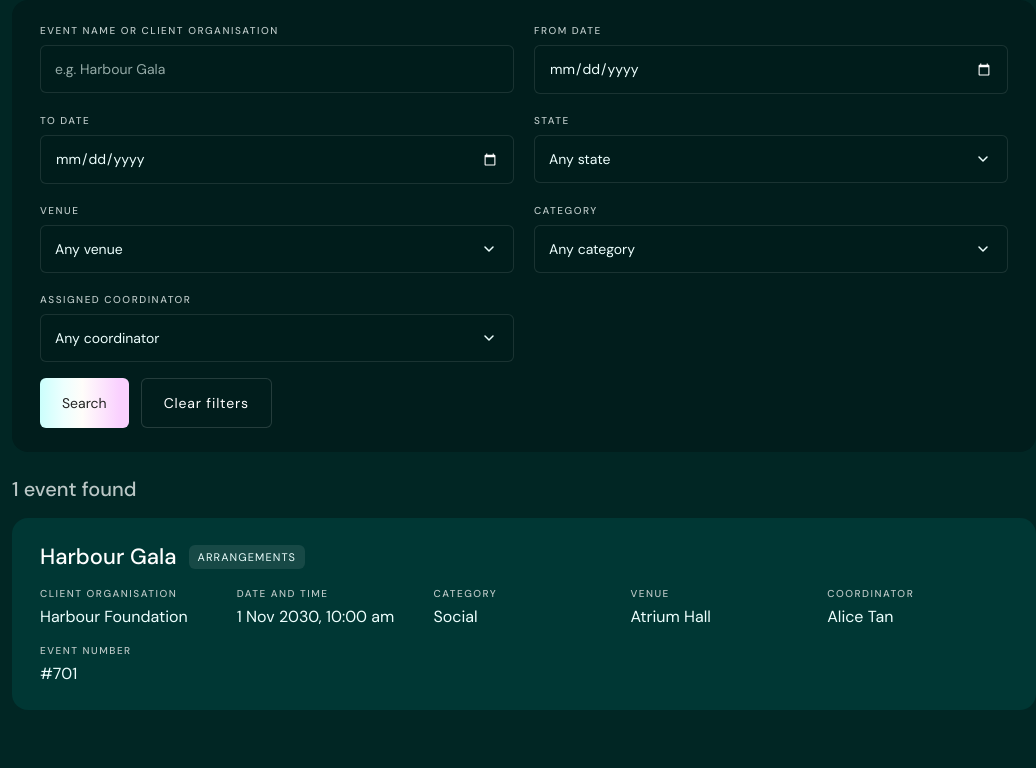
Scenario: EventSearch (SG2-70) › [FAILURE] [SG2-70:AC2] a filter the server refuses shows its message
The width and height of the screenshot is (1036, 768).
Expected: the heading "1 event found" is shown, top-left (12, 476), bottom-right (136, 502)
Step 1. Type "2030-12-01" into the date field labelled "From date" → coordinates (771, 70), box top-left (534, 45), bottom-right (1008, 94)
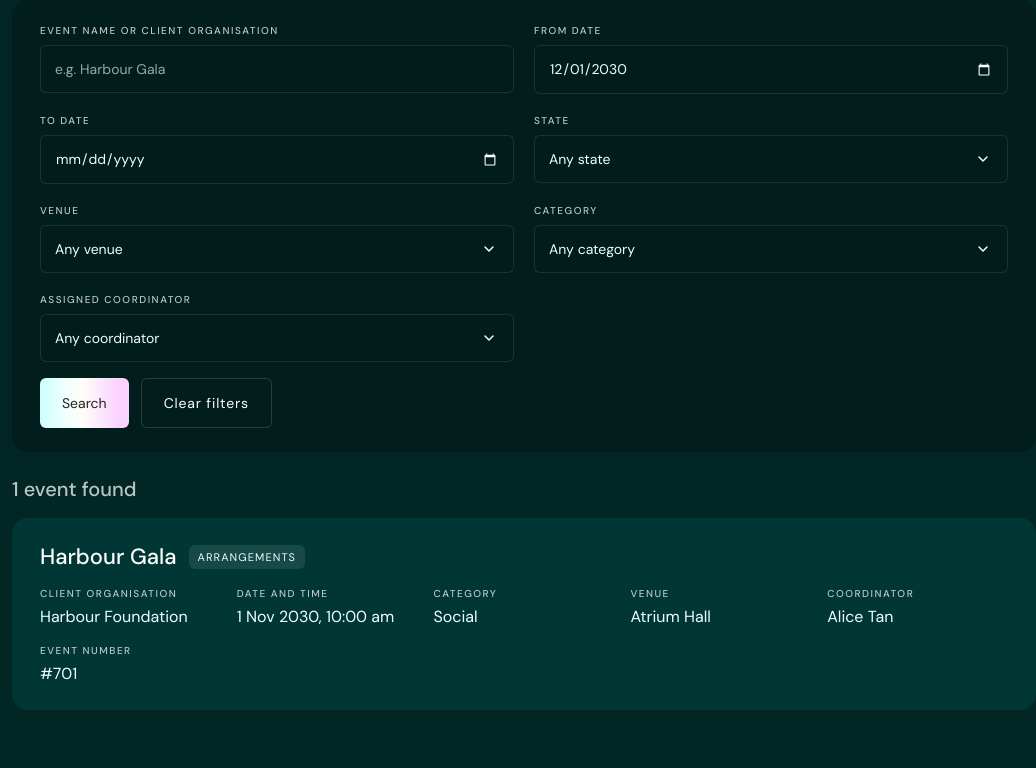
Step 2. Type "2030-11-01" into the date field labelled "To date" → coordinates (277, 160), box top-left (40, 135), bottom-right (514, 184)
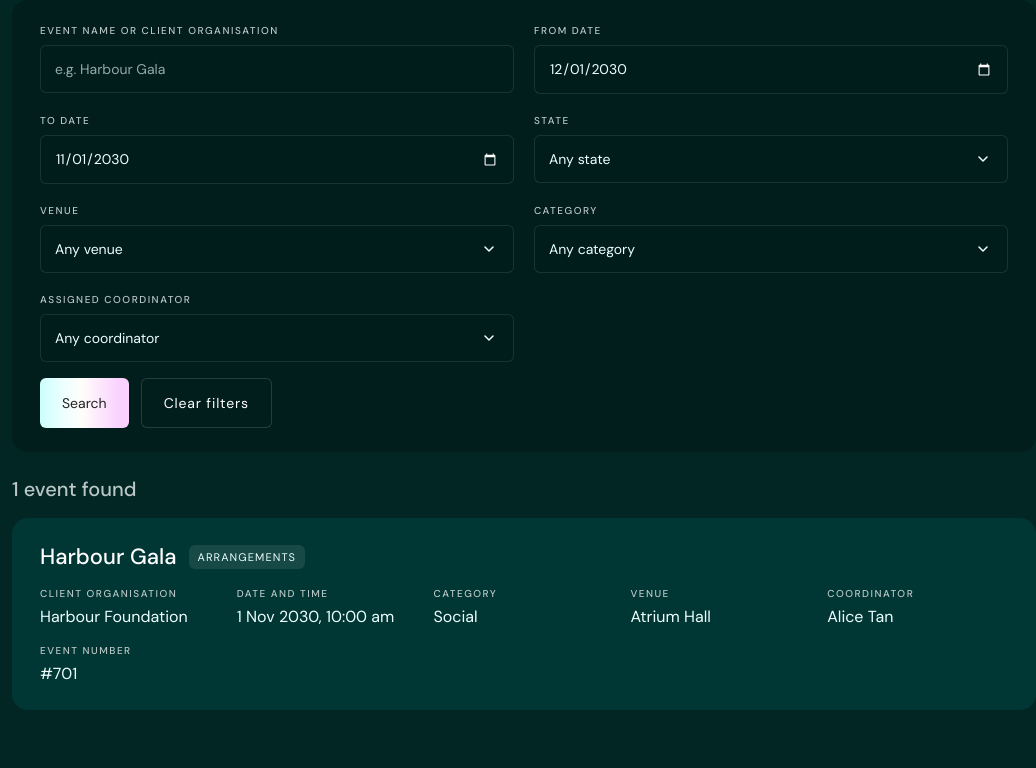
Step 3. Click the button "Search" → coordinates (84, 403), box top-left (40, 378), bottom-right (129, 428)
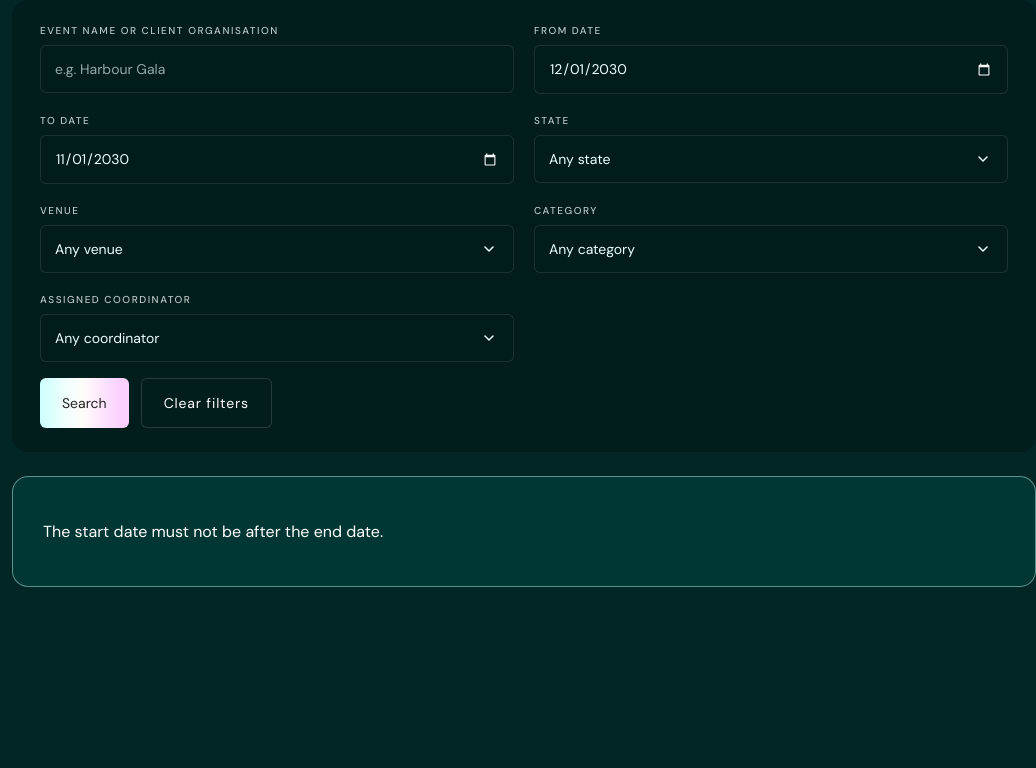
Result: the message reads "The start date must not be after the end date." at top-left (43, 521), bottom-right (383, 542)
